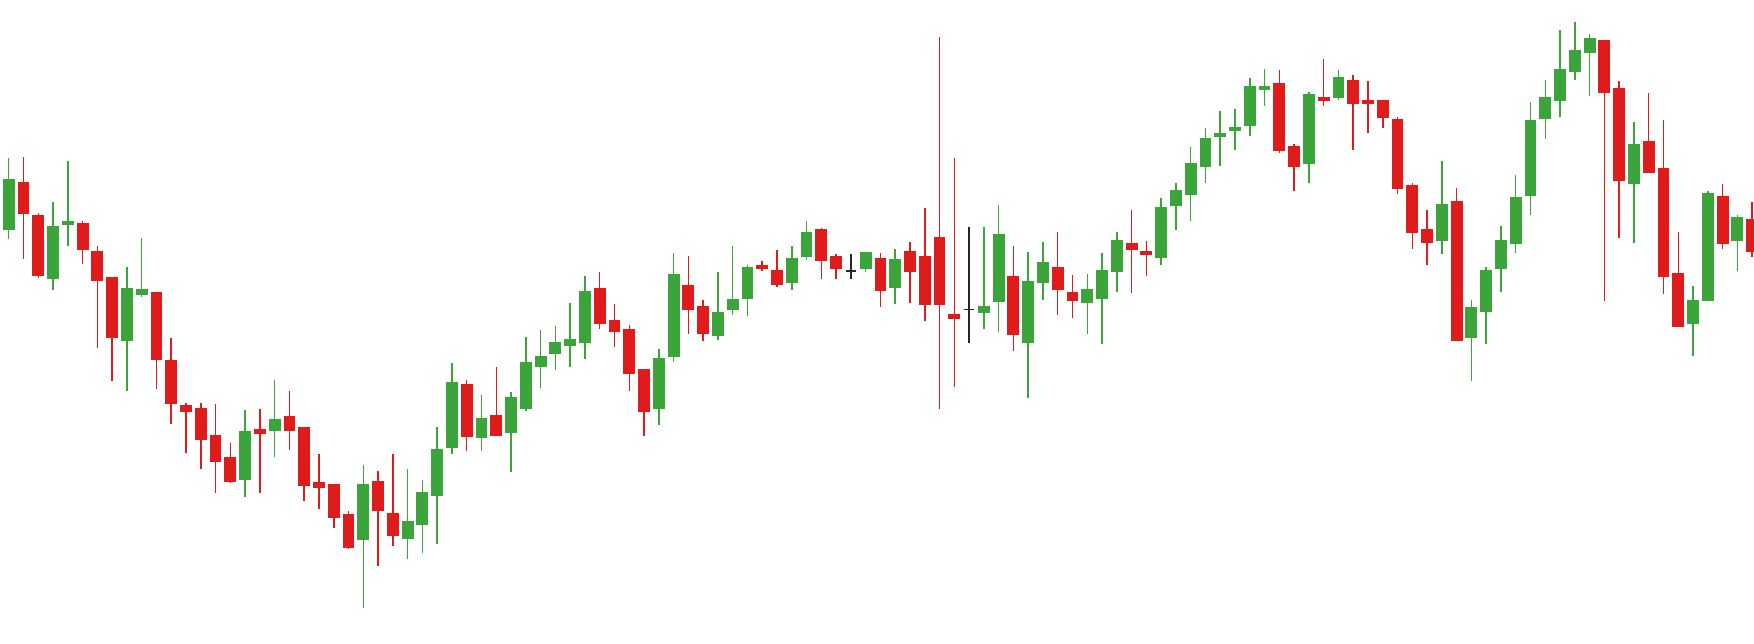sell: (1318, 22, 1611, 163)
